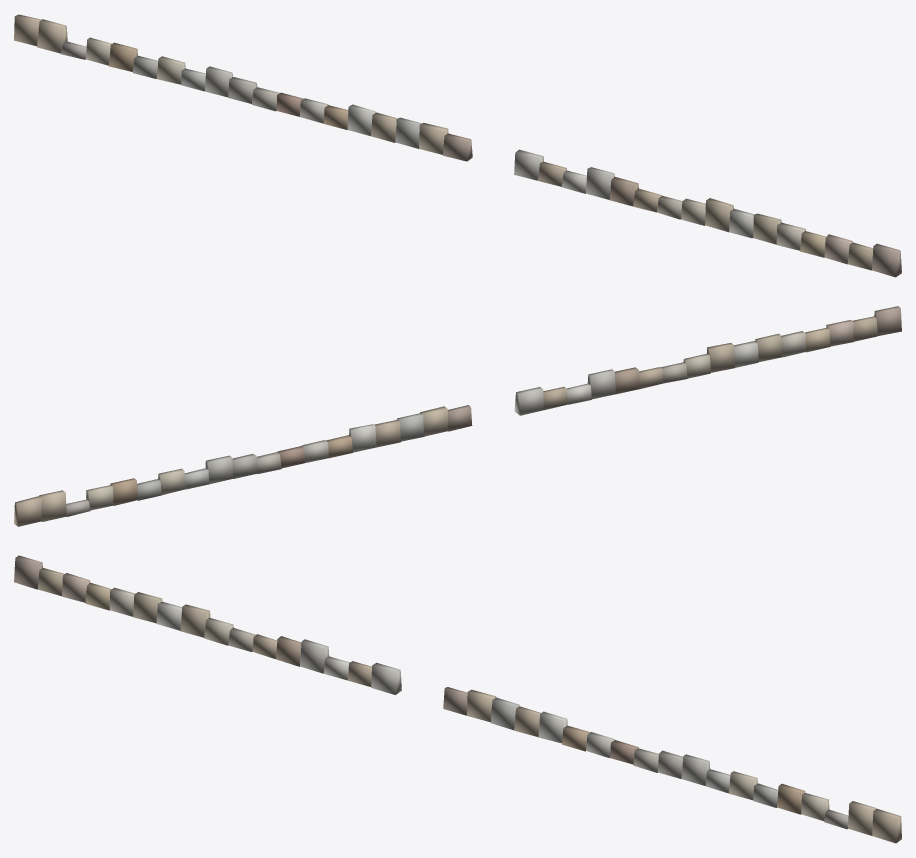
Rendered from farm_-3_5_far.glb.
3 renders of one model, top to bottom at view 1: azimuth 90°, elevation 25°; view 2: azimuth 150°, elevation 25°; view 3: azimuth 270°, elevation 25°, orthographic. The views are drawn at different scales.
Visible parts, largest first — view 1: geometry_0; view 2: geometry_0; view 3: geometry_0.
Part boxes in pixels (x1,y1,x2,y2): geometry_0: (14, 14, 901, 277); geometry_0: (14, 306, 901, 526); geometry_0: (14, 555, 901, 843).
Bounding box in the file's own units: 33.24 × 2.25 × 49.42.
